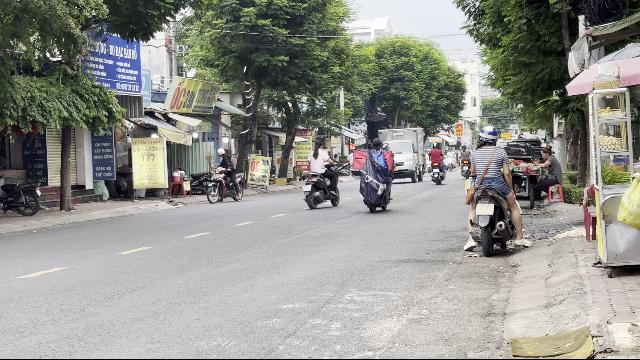helmet: (477, 126, 498, 146)
licenseplate: (476, 205, 494, 216)
motorcyclist: (461, 124, 525, 256)
